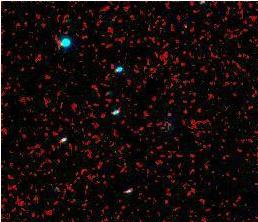star: (154, 98, 184, 128)
